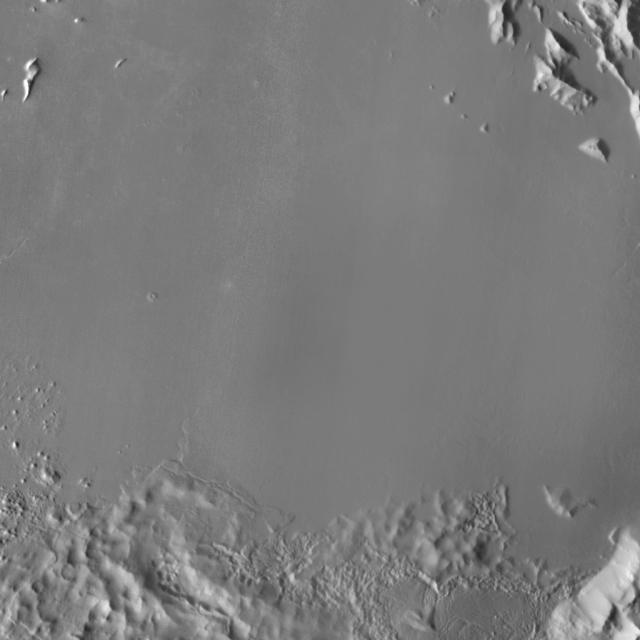crater: (237, 623, 257, 640), (545, 82, 554, 90)
